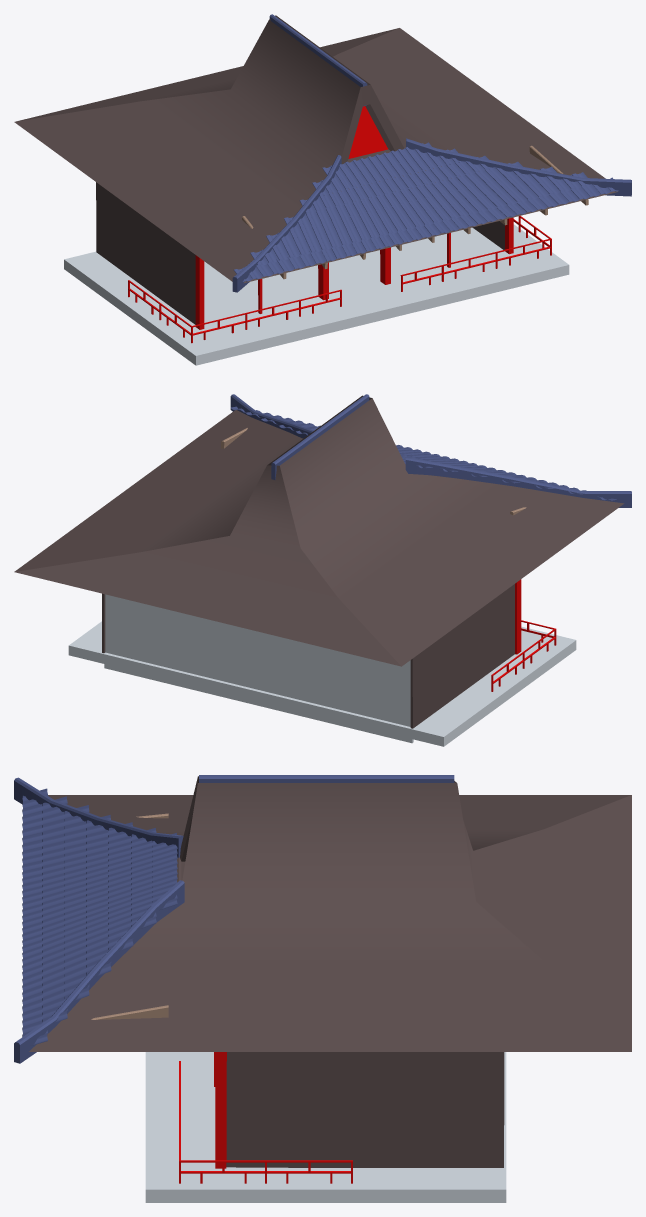
File: Shrine.fbx
3 views of the same model, one above another, from view 1: azimuth 30°, elevation 25°; view 2: azimuth 150°, elevation 25°; view 3: azimuth 270°, elevation 25° (orthographic). The views are drawn at different scales.
Visible parts, largest first — view 1: ShrineRoof, ShrineStage, Walls1; view 2: ShrineRoof, Walls1, ShrineStage; view 3: ShrineRoof, Walls1, ShrineStage.
Part boxes in pixels (bbox=[...]): ShrineRoof: bbox=[14, 14, 631, 292]; ShrineStage: bbox=[64, 216, 569, 365]; Walls1: bbox=[96, 182, 513, 329]; ShrineRoof: bbox=[14, 394, 631, 666]; Walls1: bbox=[102, 579, 521, 743]; ShrineStage: bbox=[68, 620, 576, 746]; ShrineRoof: bbox=[14, 775, 631, 1063]; Walls1: bbox=[214, 1052, 504, 1168]; ShrineStage: bbox=[145, 1052, 506, 1202].
Bounding box in the file's own units: 64.56 × 35.31 × 63.32.
